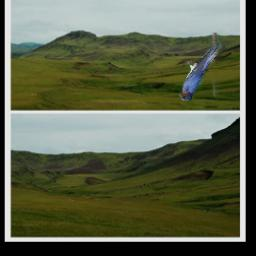Swallow: (180, 34, 237, 102)
